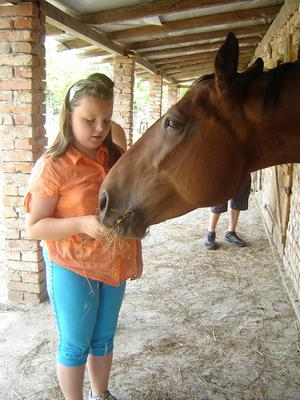person: (26, 74, 142, 398)
